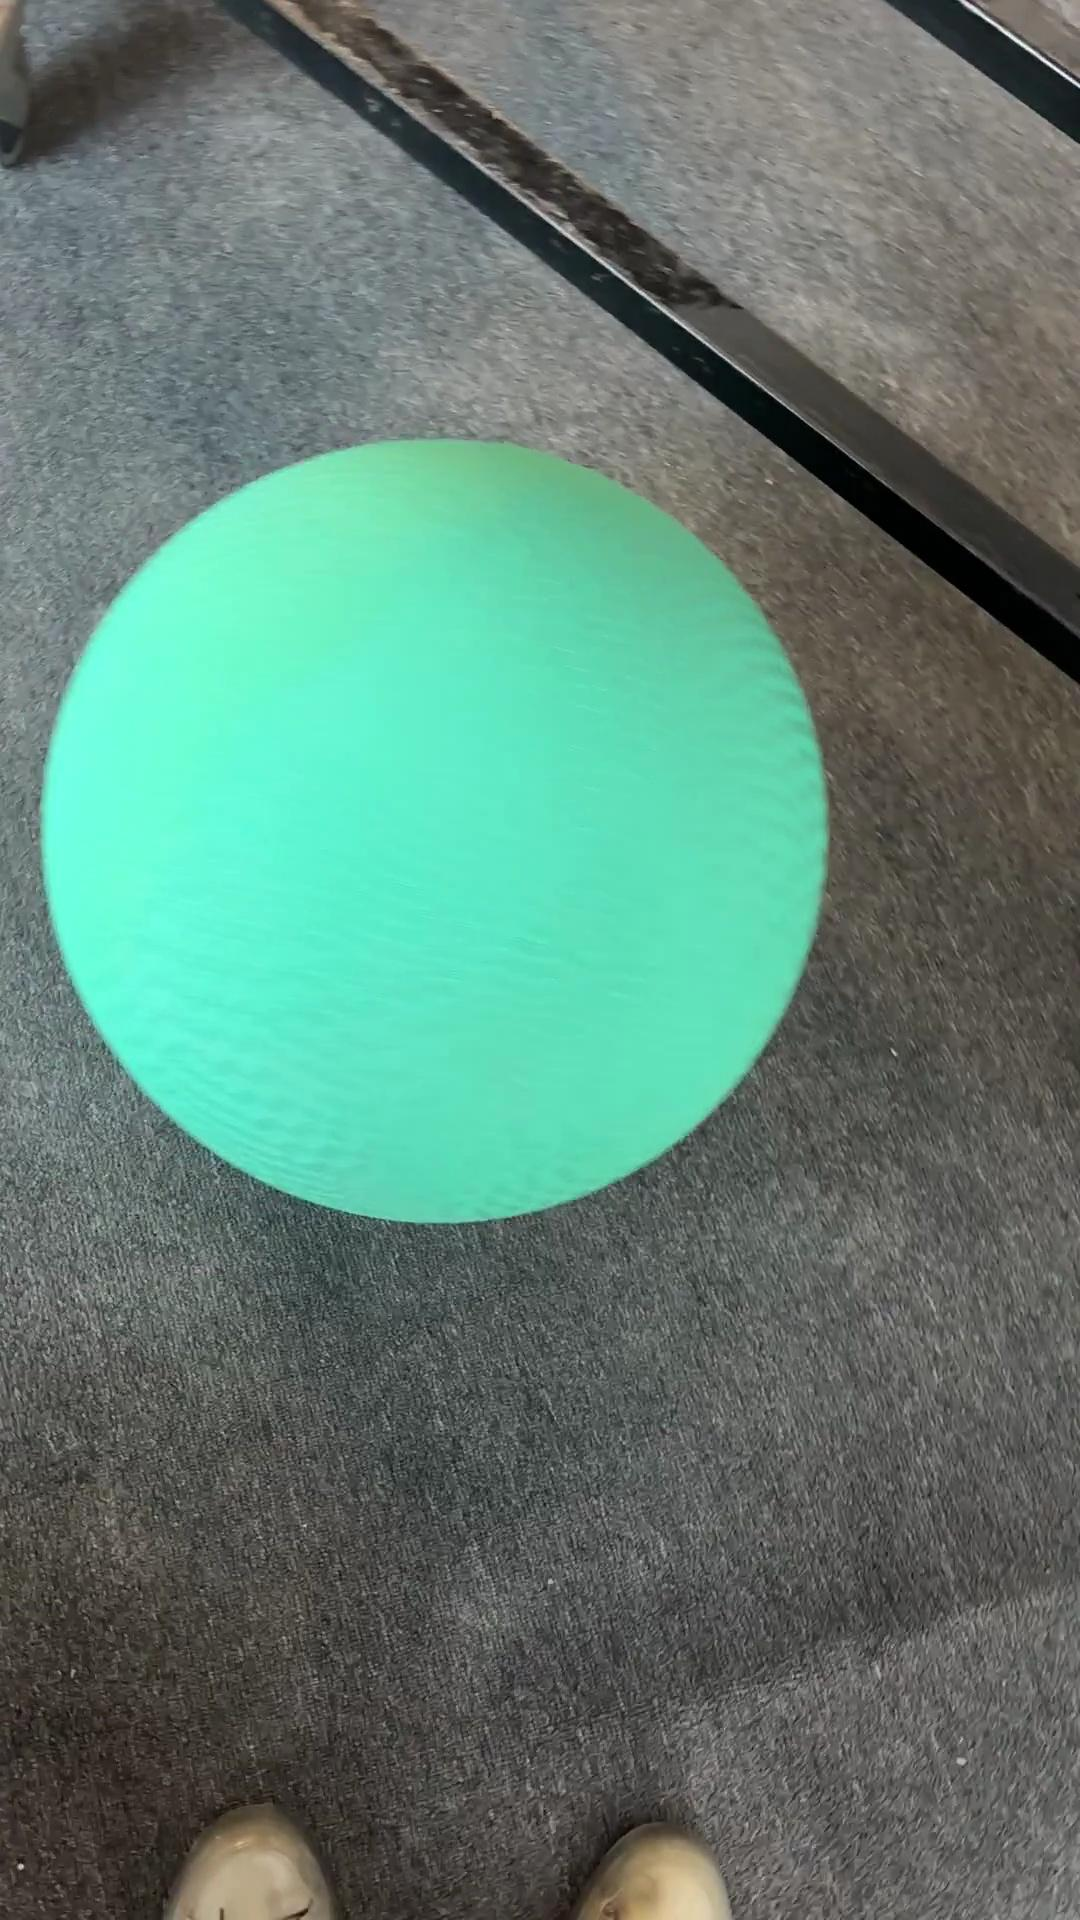ALGAE: (37, 433, 831, 1226)
